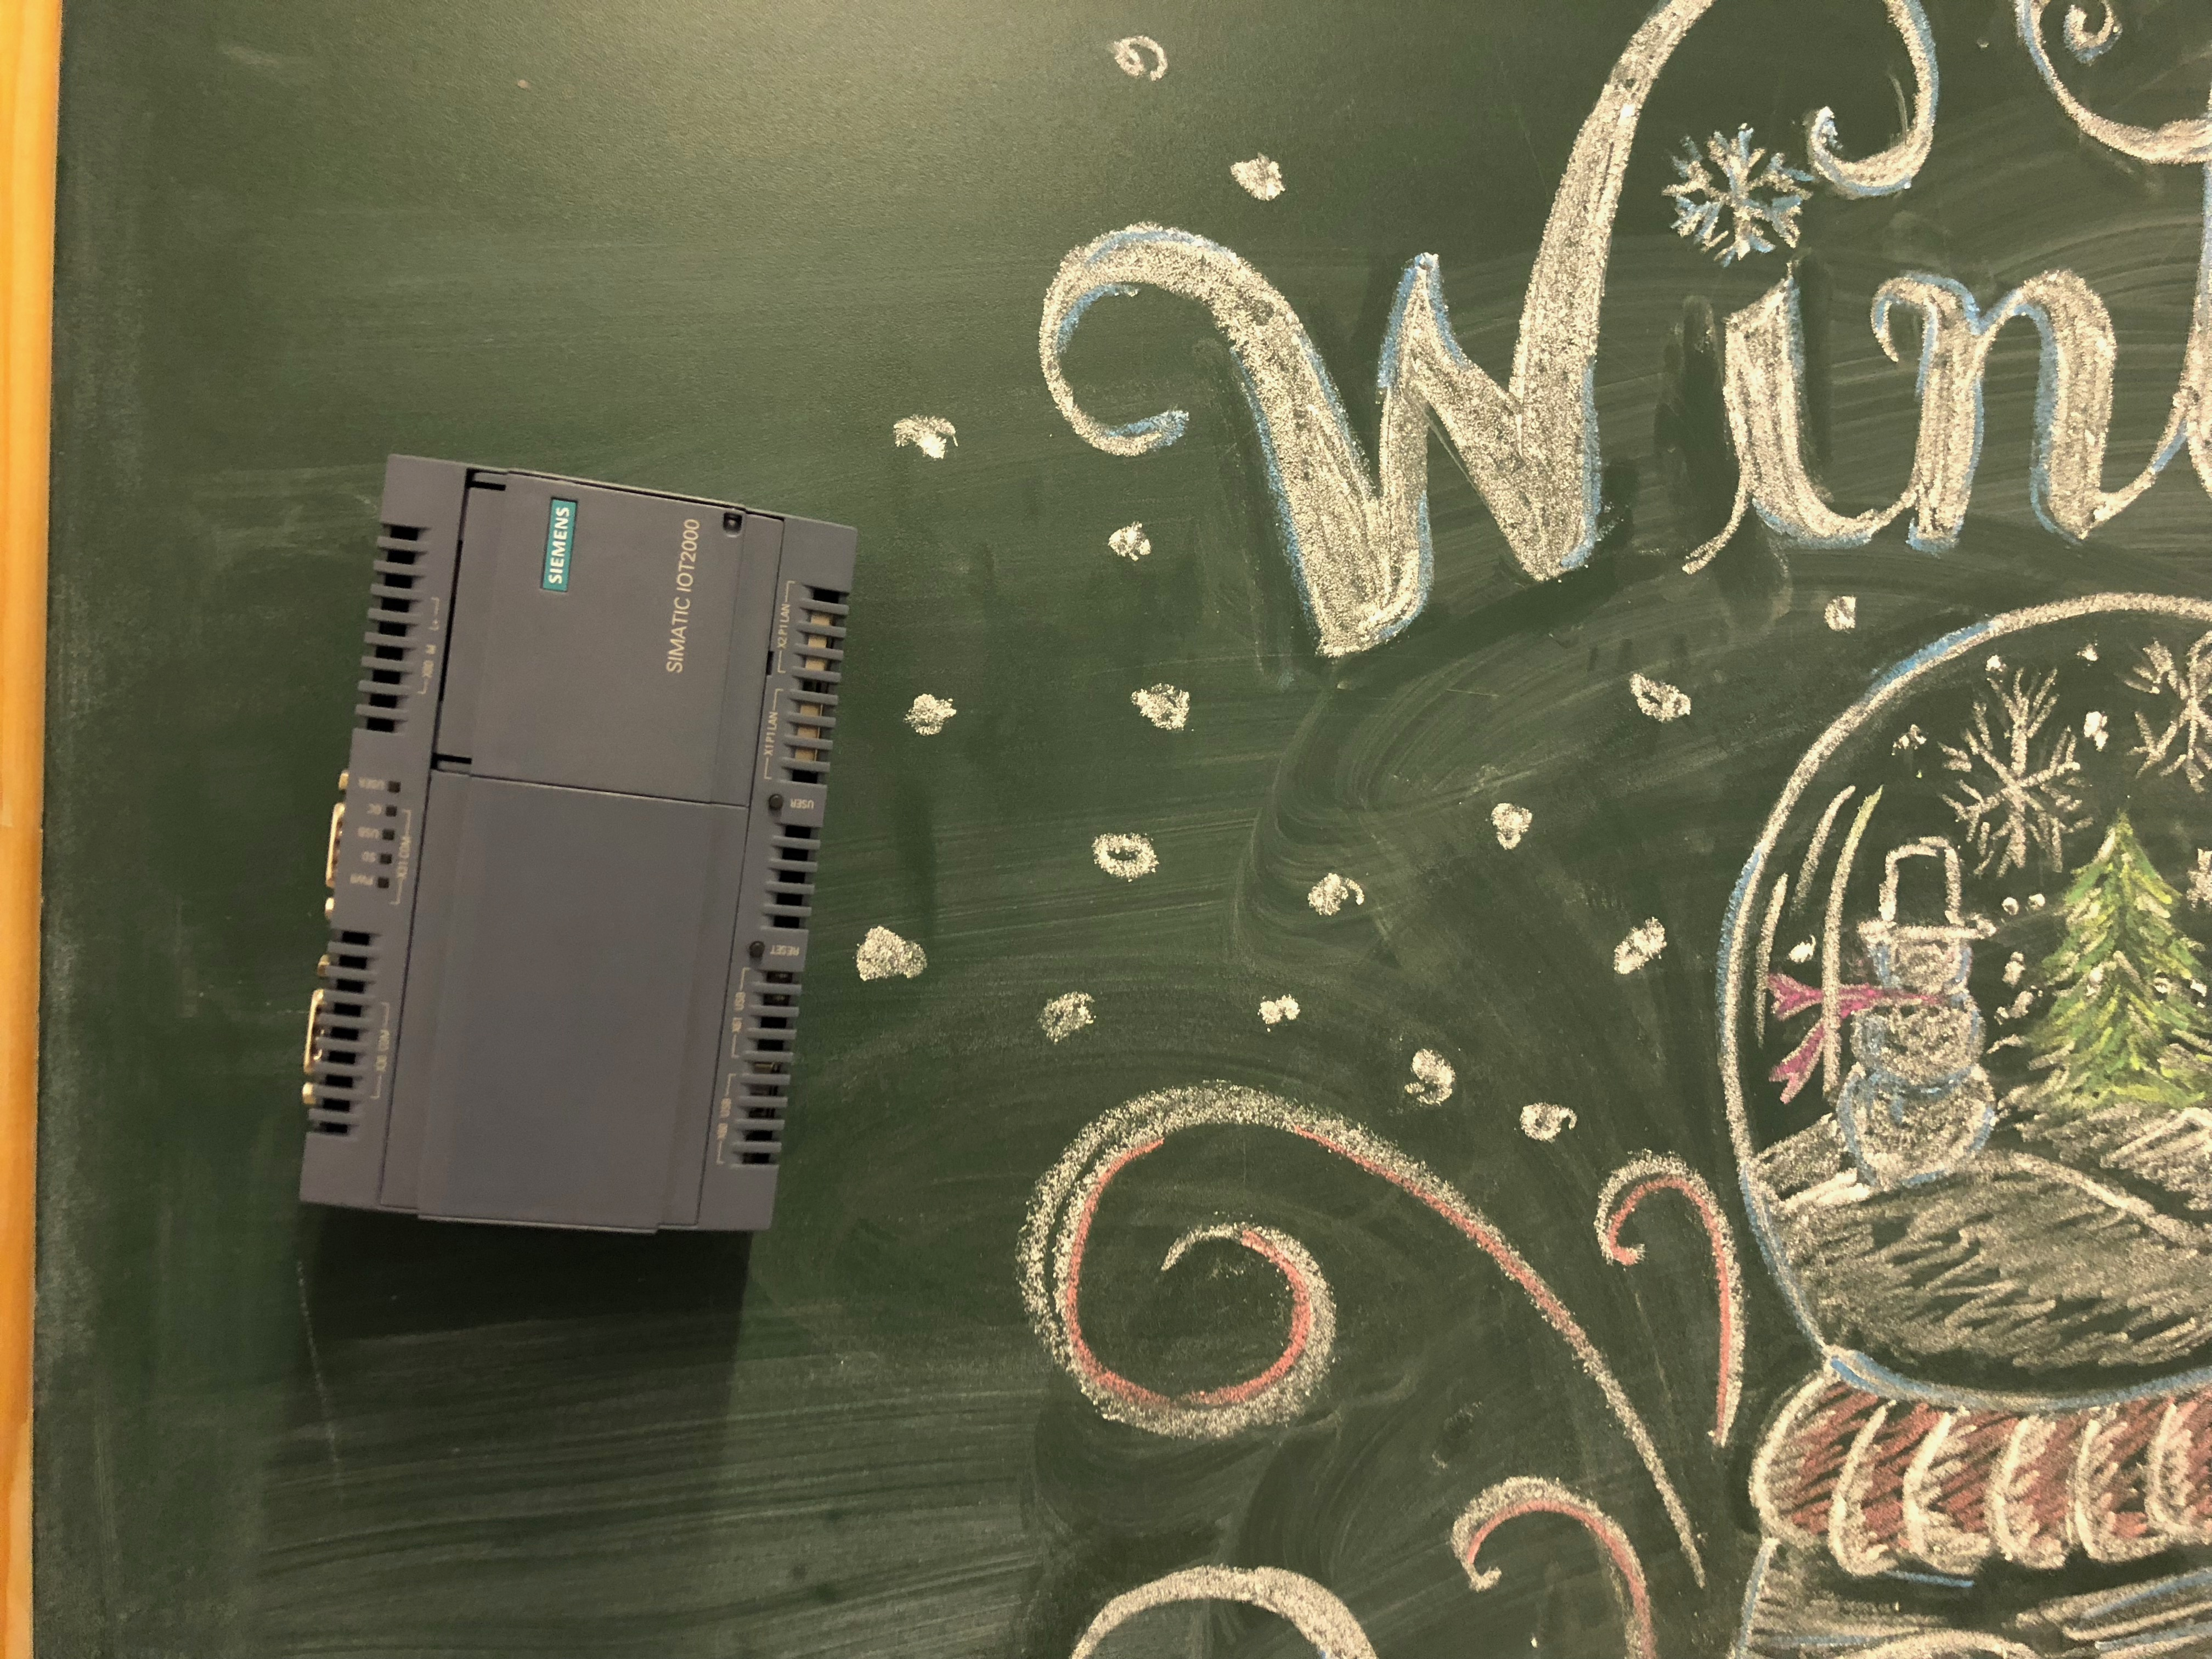device: (296, 451, 862, 1239)
